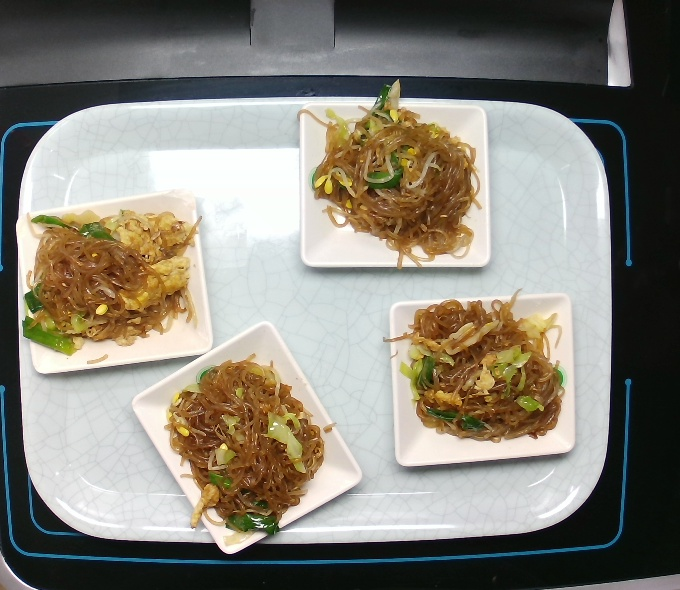wcq-FenSiChaoDan: (162, 344, 329, 545), (306, 85, 482, 260), (20, 190, 202, 354), (390, 299, 570, 455)
